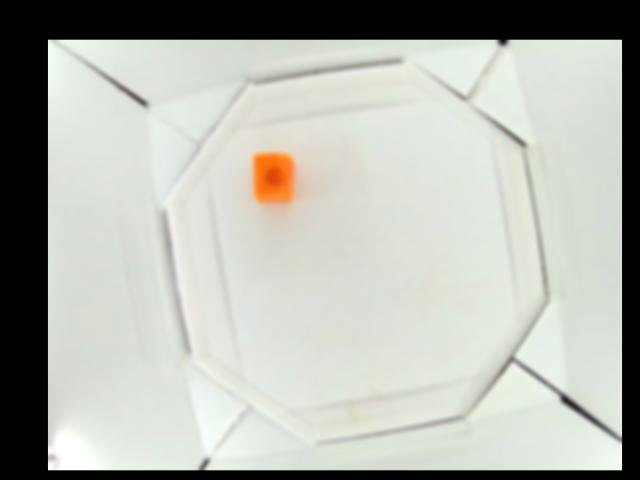Carrot: (252, 151, 297, 203)
